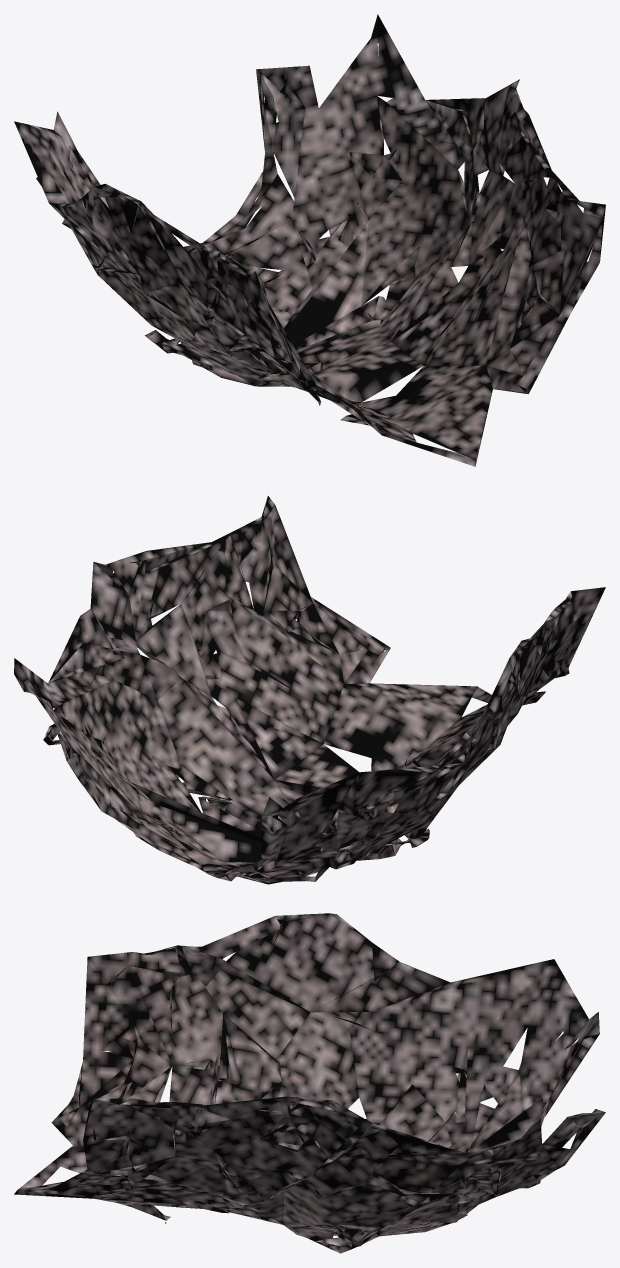
Rendered from vampire_chestplate_LOD3.glb.
3 views of the same model, one above another, from view 1: azimuth 30°, elevation 25°; view 2: azimuth 150°, elevation 25°; view 3: azimuth 270°, elevation 25° (orthographic). The views are drawn at different scales.
Visible parts, largest first — view 1: vampire_chestplate_LOD3; view 2: vampire_chestplate_LOD3; view 3: vampire_chestplate_LOD3.
Boxes of the visible parts, x1,y1,x2,y2 form: vampire_chestplate_LOD3: (14, 14, 605, 466); vampire_chestplate_LOD3: (14, 496, 605, 884); vampire_chestplate_LOD3: (14, 913, 605, 1253).
Bounding box in the file's own units: 0.5776 × 0.3214 × 0.7519.
Materials: 1 (1 with a texture image).
